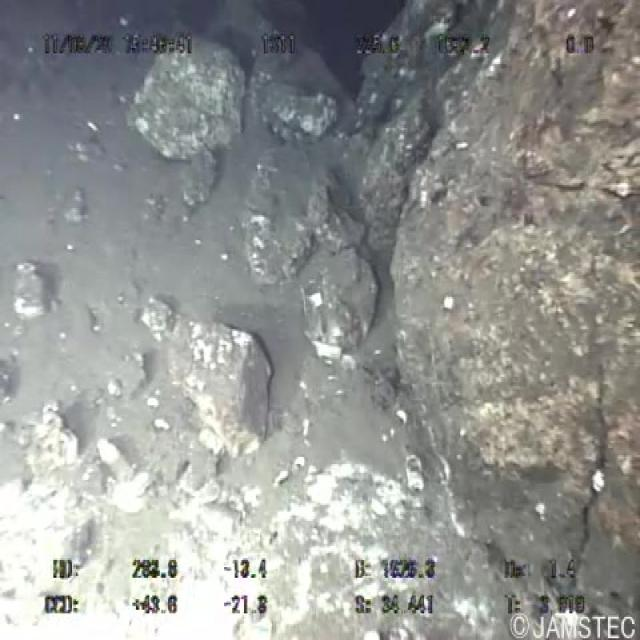plastic: (297, 281, 340, 368), (91, 432, 137, 491)
